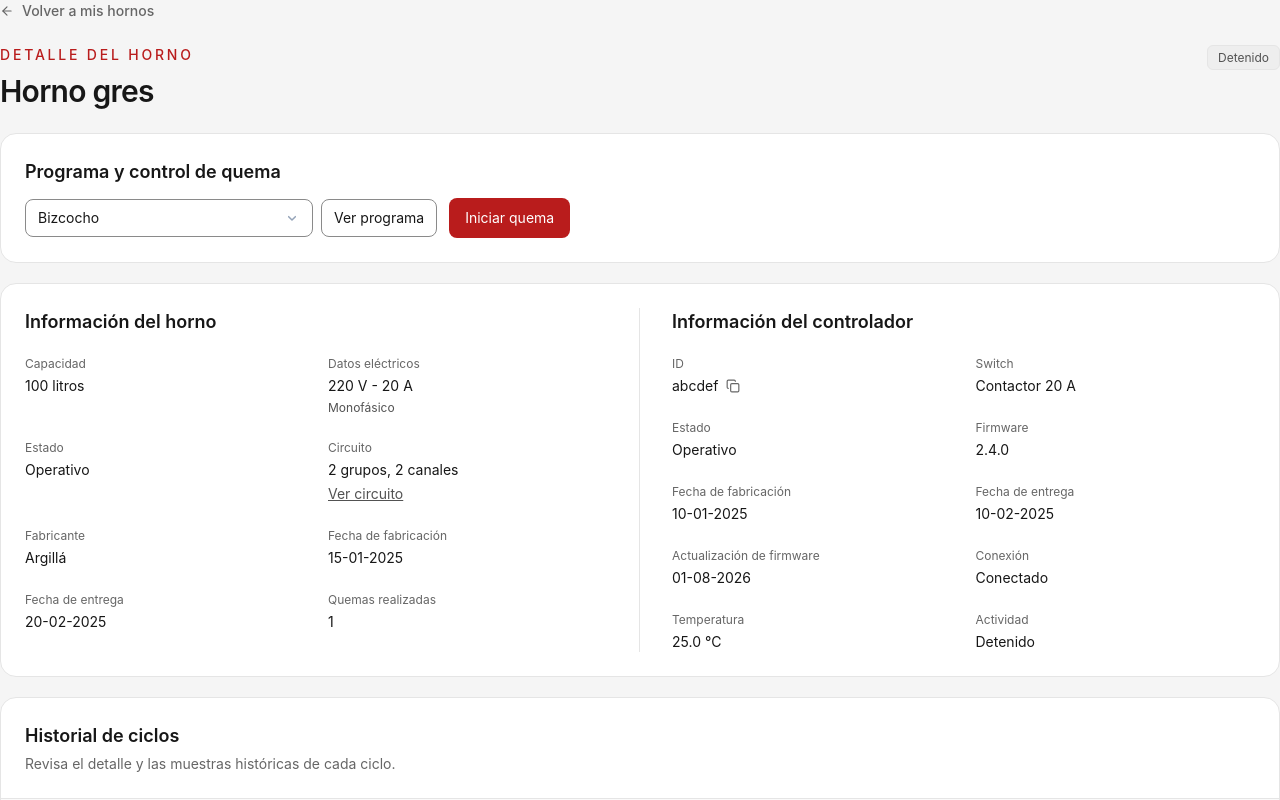
KilnDetails › combines kiln and controller information and opens a read-only circuit
The image size is (1280, 800).
expect the heading "Información del horno" is shown: met, box [25, 311, 216, 332]
expect the heading "Información del controlador" is shown: met, box [672, 311, 913, 332]
Click the button "Ver circuito" at (366, 494), box [328, 484, 403, 504]
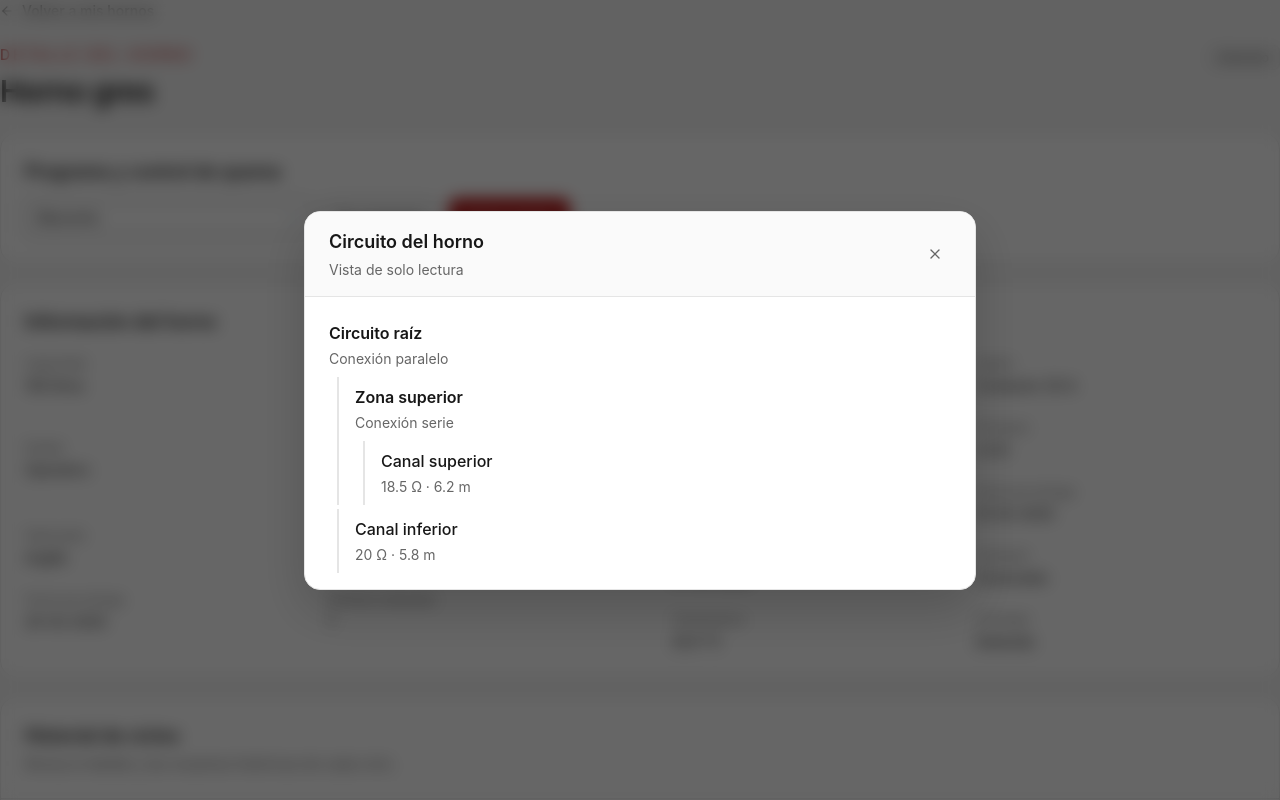
expect the text "Vista de solo lectura" is shown: met, box [329, 260, 484, 280]
expect the text "Circuito raíz" is shown: met, box [329, 322, 422, 342]
expect the text "Zona superior" is shown: met, box [355, 386, 463, 406]
